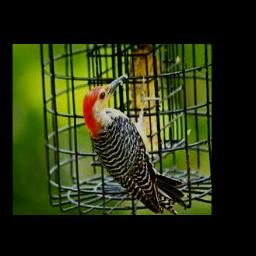Woodpecker: (82, 73, 184, 214)
